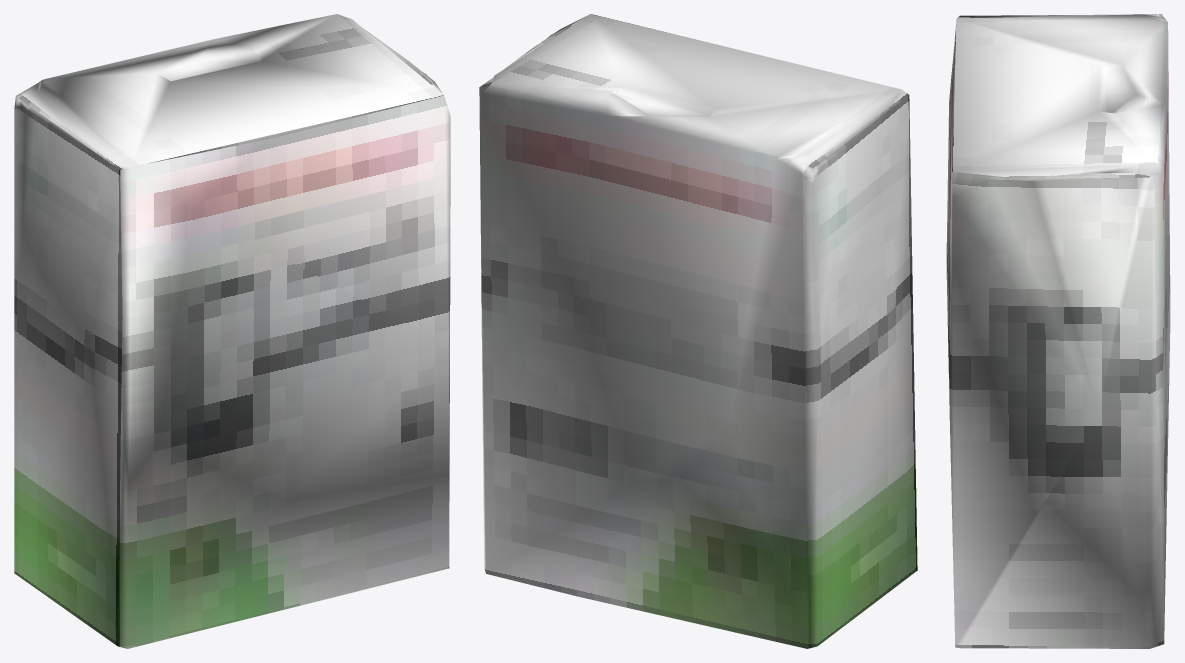
The model's file is Office_Depot_Dell_Series_5_Remanufactured_Ink_Cartridge_Black-low.glb.
The picture shows the model from 3 angles, left to right: view 1: azimuth 30°, elevation 25°; view 2: azimuth 150°, elevation 25°; view 3: azimuth 270°, elevation 25°; orthographic projection.
Visible parts, largest first — view 1: Office_Depot_Dell_Series_5_Remanufactured_Ink_Cartridge_Blac; view 2: Office_Depot_Dell_Series_5_Remanufactured_Ink_Cartridge_Blac; view 3: Office_Depot_Dell_Series_5_Remanufactured_Ink_Cartridge_Blac.
Part boxes in pixels (x1,y1,x2,y2): Office_Depot_Dell_Series_5_Remanufactured_Ink_Cartridge_Blac: (14, 14, 450, 648); Office_Depot_Dell_Series_5_Remanufactured_Ink_Cartridge_Blac: (479, 14, 917, 648); Office_Depot_Dell_Series_5_Remanufactured_Ink_Cartridge_Blac: (946, 14, 1170, 648).
Bounding box in the file's own units: 0.0851 × 0.1172 × 0.049.
Materials: 1 (1 with a texture image).
